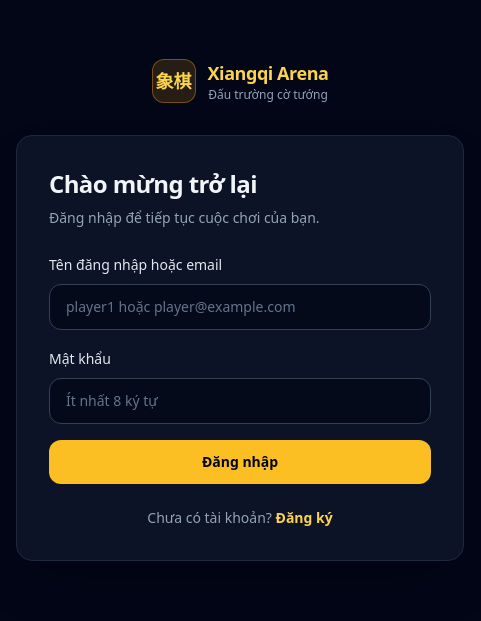
Test: AuthForm › does not keep a token when /me rejects it
Type "player1" into the field labelled "Tên đăng nhập hoặc email" at (240, 307), box x1=49 y1=284 x2=431 y2=330
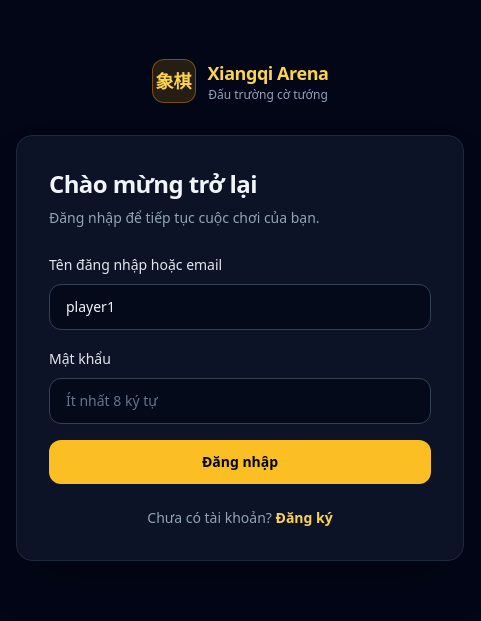
Type "correctpass" into the password field labelled "Mật khẩu" at (240, 401), box x1=49 y1=378 x2=431 y2=424
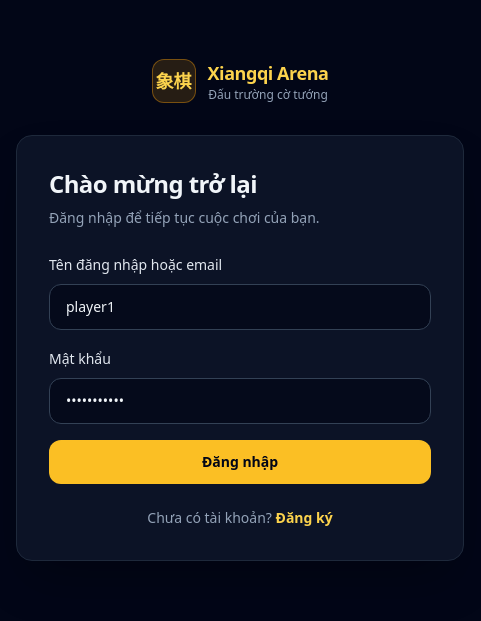
Click the button "Đăng nhập" at (240, 462), box x1=49 y1=440 x2=431 y2=484
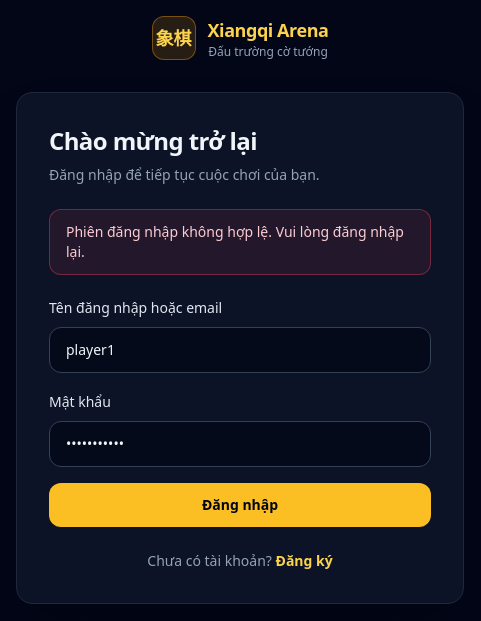
Now the message shows "Phiên đăng nhập không hợp lệ", box x1=66 y1=222 x2=404 y2=261
